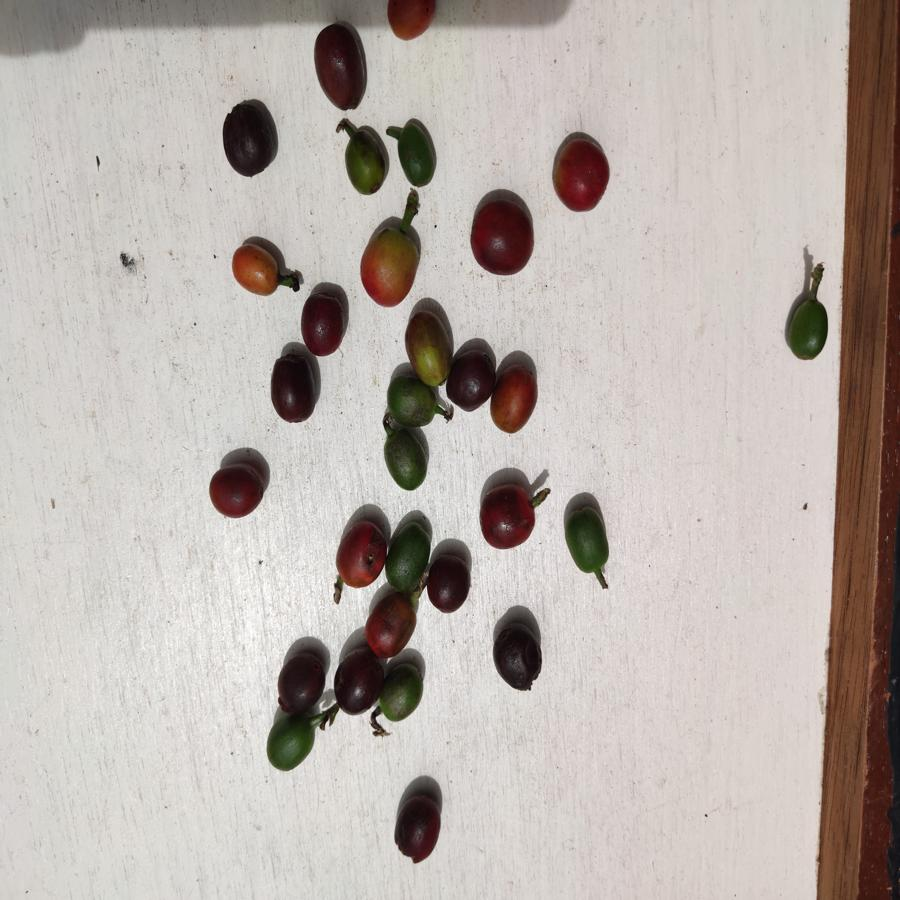Inmaduro: (262, 711, 320, 775), (563, 503, 608, 581), (785, 296, 829, 369), (384, 658, 429, 727), (390, 125, 439, 187), (388, 520, 435, 584), (342, 127, 388, 192), (382, 427, 427, 491), (390, 373, 426, 428)
Maduro: (466, 202, 539, 277), (544, 134, 612, 212), (336, 522, 381, 598), (366, 591, 417, 655)
Pinton: (353, 222, 417, 304), (232, 237, 288, 303), (490, 359, 539, 434), (406, 308, 451, 383)
Sobremaduro: (310, 16, 371, 110), (220, 102, 278, 176), (490, 621, 547, 692), (477, 483, 535, 552), (392, 791, 440, 865), (444, 347, 497, 410), (271, 356, 318, 424), (333, 649, 382, 713), (301, 292, 346, 359), (209, 463, 263, 518), (277, 652, 325, 711), (426, 552, 470, 615)
